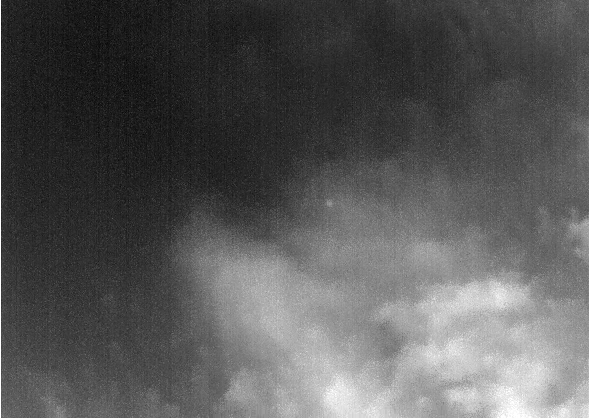dim target: (325, 199, 333, 208)
